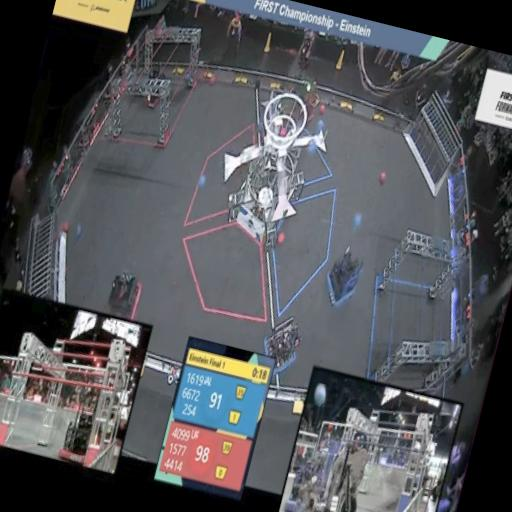robot: (253, 304, 309, 380), (316, 241, 369, 314), (98, 260, 148, 324), (135, 52, 173, 110)
